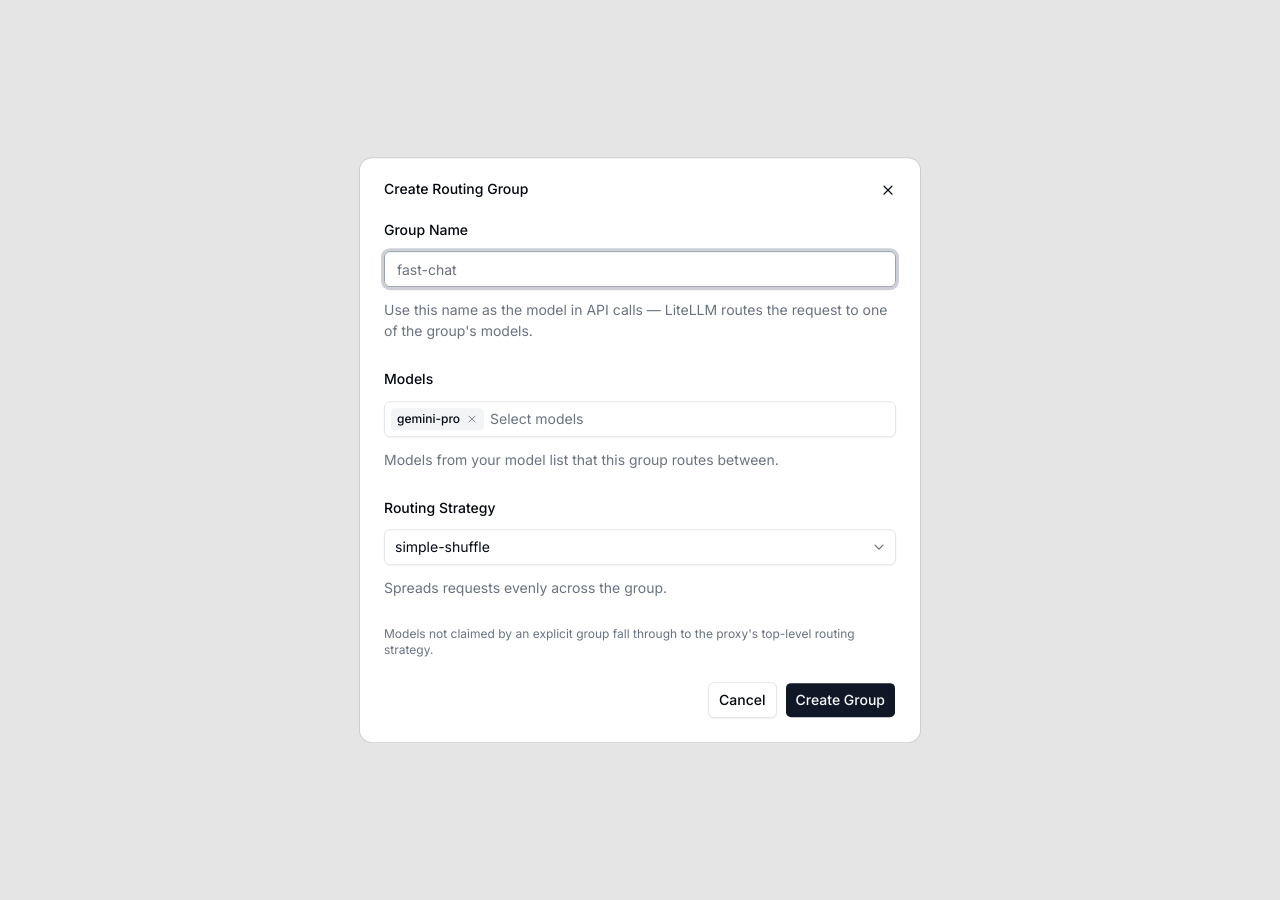
Test: RoutingGroupModal › rejects a name with characters outside the allowed set
This screenshot has width=1280, height=900.
Type "bad name" into the field labelled "Group Name" at (640, 269), box [384, 251, 896, 287]
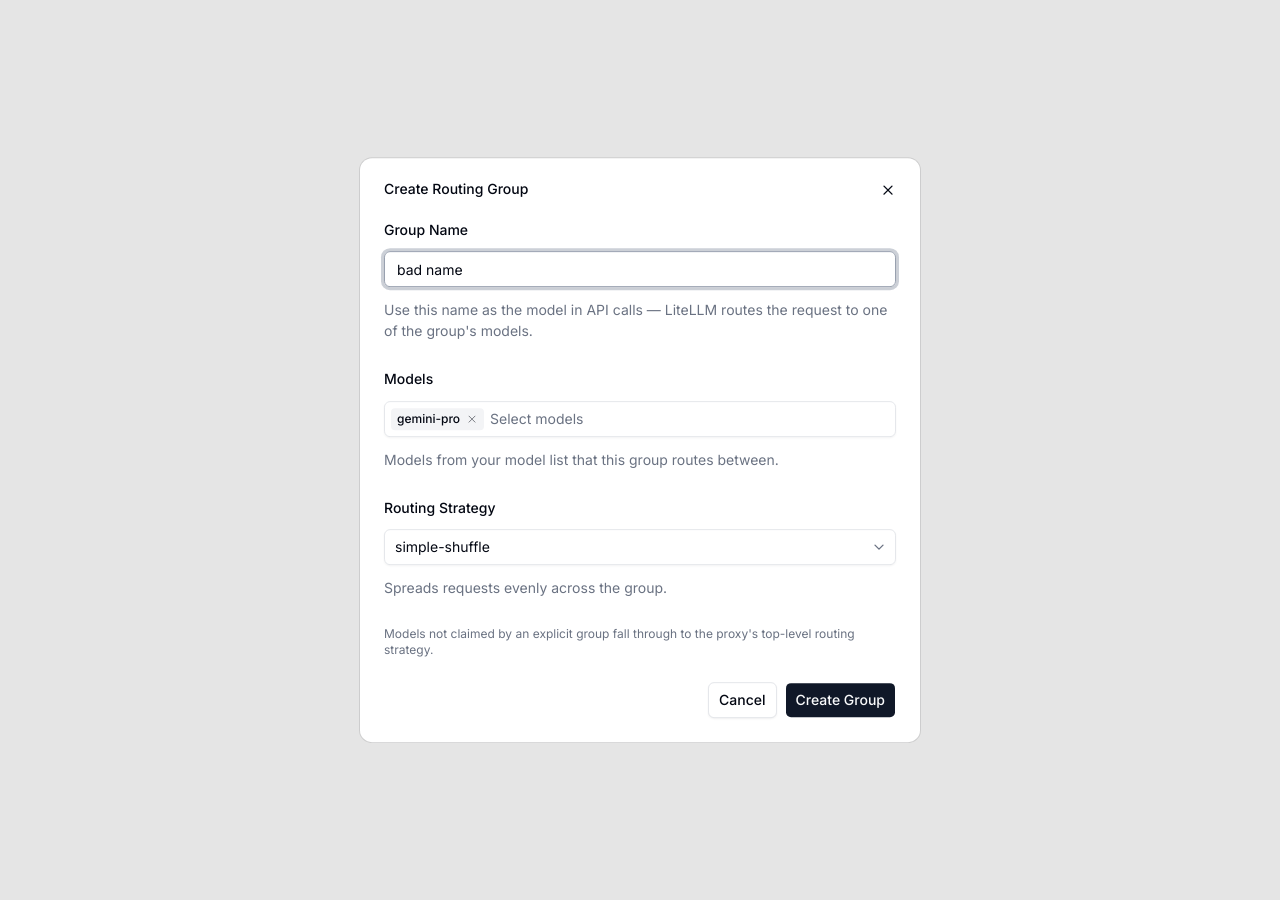
Click the button "Create Group" at (840, 700), box [784, 682, 896, 718]
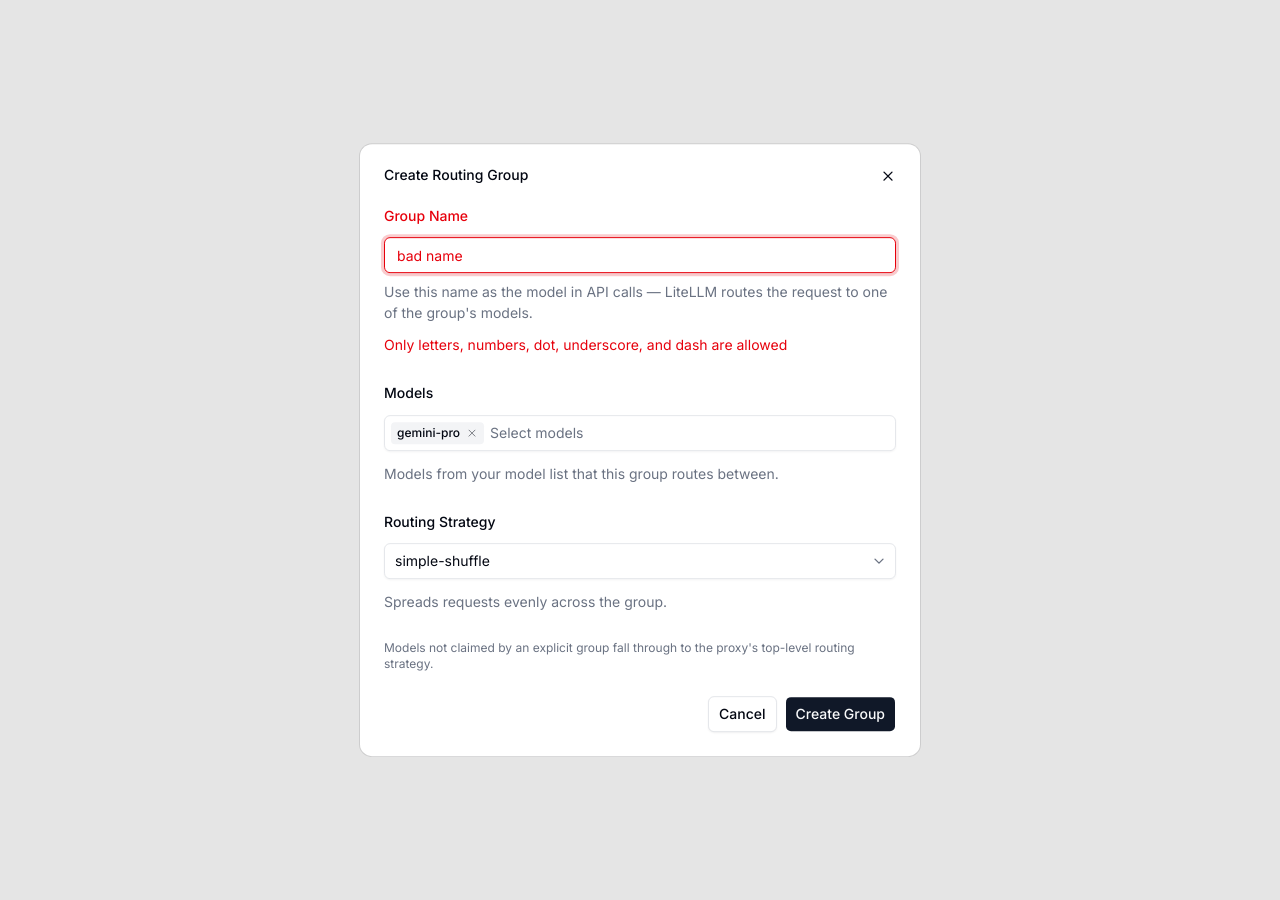
Result: the text "Only letters, numbers, dot, underscore, and dash are allowed" is shown at [384, 336, 787, 353]
